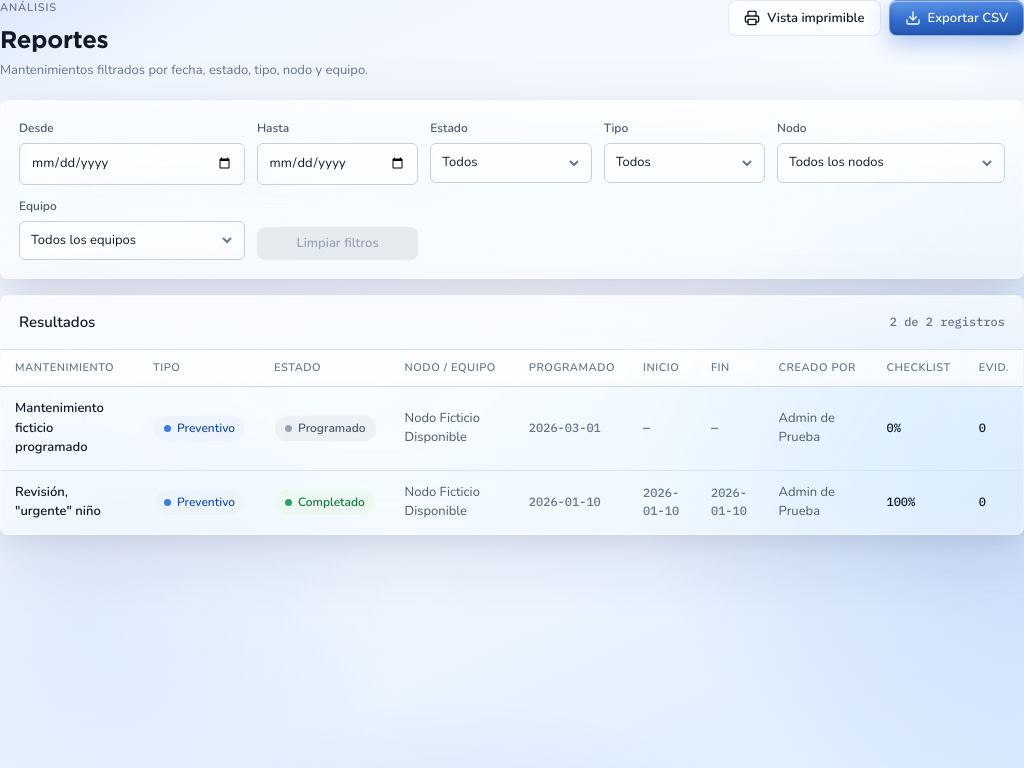
Test case: Reports › el filtro de estado reduce el contador y la tabla
The width and height of the screenshot is (1024, 768).
Expected: the text "Mantenimiento ficticio programado" is shown, [1,386,139,470]
Select "Completado" in the dropdown labelled "Estado". click: (511, 163)
box: [430,143,592,182]
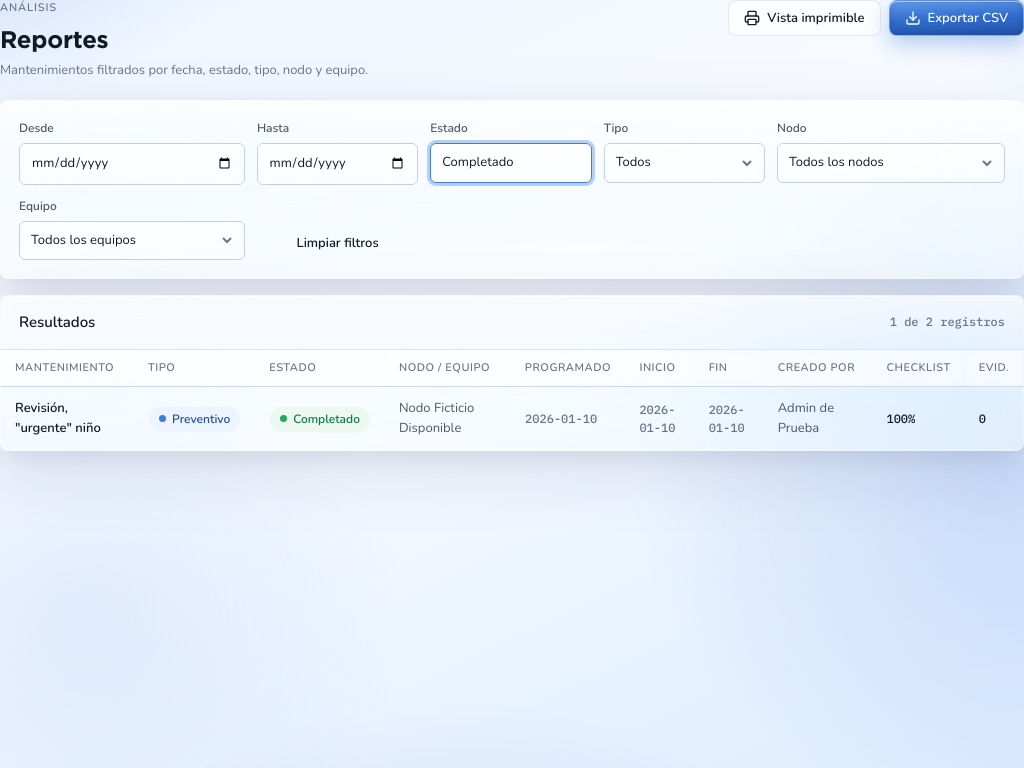
Expected: the text "Revisión, \"urgente\" niño" is shown, [1,386,134,450]
Result: the text "1 de 2 registros" is shown at [890,313,1005,331]
Result: the text "Mantenimiento ficticio programado" is gone
